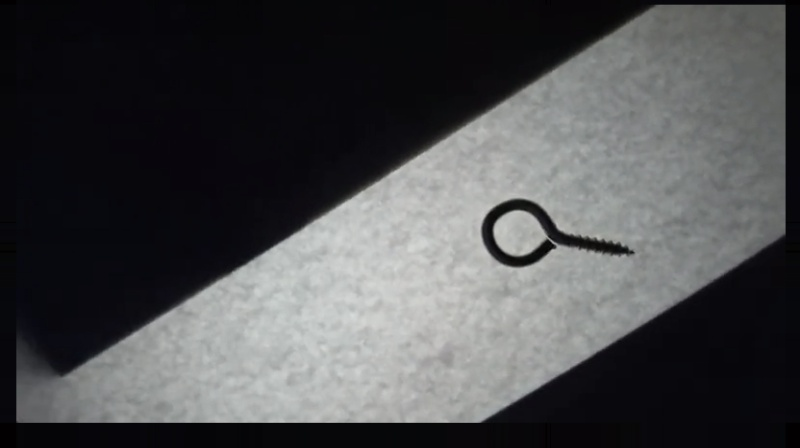O001: (475, 197, 637, 270)
